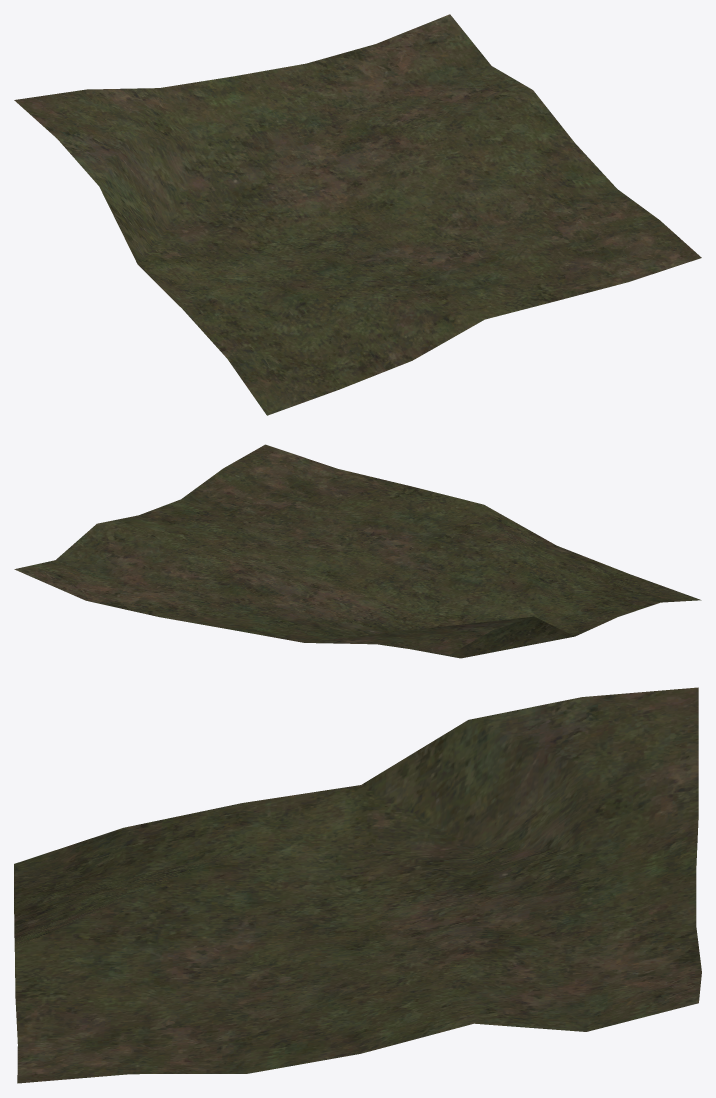
Rendered from blend_weeds12.fbx.
The picture shows the model from 3 angles, top to bottom: view 1: azimuth 30°, elevation 25°; view 2: azimuth 150°, elevation 25°; view 3: azimuth 270°, elevation 25°; orthographic projection. The views are drawn at different scales.
Parts seen in each view (by area): view 1: New_terrain/brushblend_shadow; view 2: New_terrain/brushblend_shadow; view 3: New_terrain/brushblend_shadow.
Boxes of the visible parts, x1=… form: New_terrain/brushblend_shadow: x1=14, y1=14, x2=701, y2=415; New_terrain/brushblend_shadow: x1=14, y1=444, x2=701, y2=658; New_terrain/brushblend_shadow: x1=14, y1=687, x2=701, y2=1083.
Bounding box in the file's own units: 15.04 × 4.29 × 15.15.
